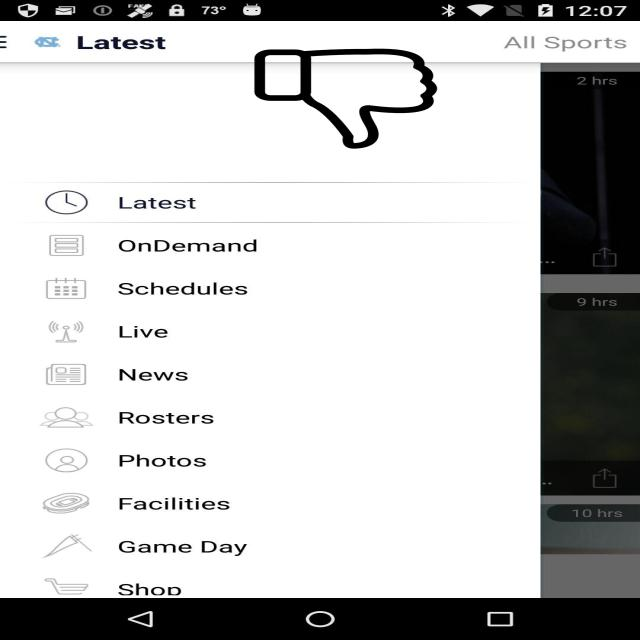obstruction: (252, 48, 440, 148)
